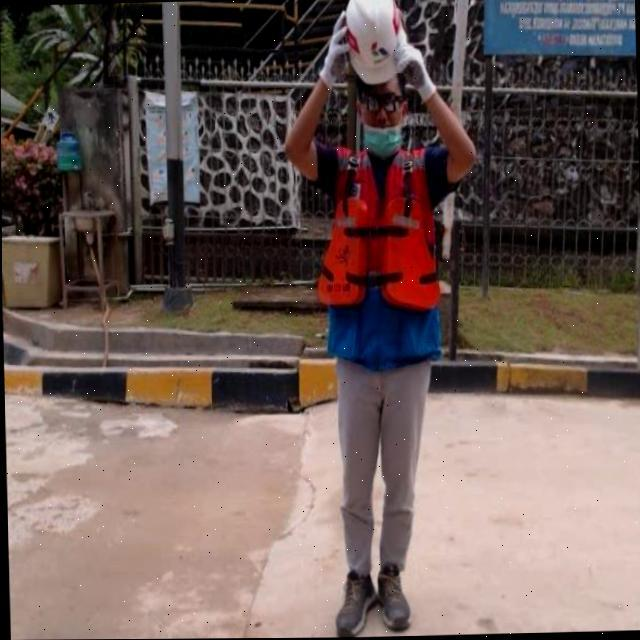goggles_on: (354, 85, 411, 115)
